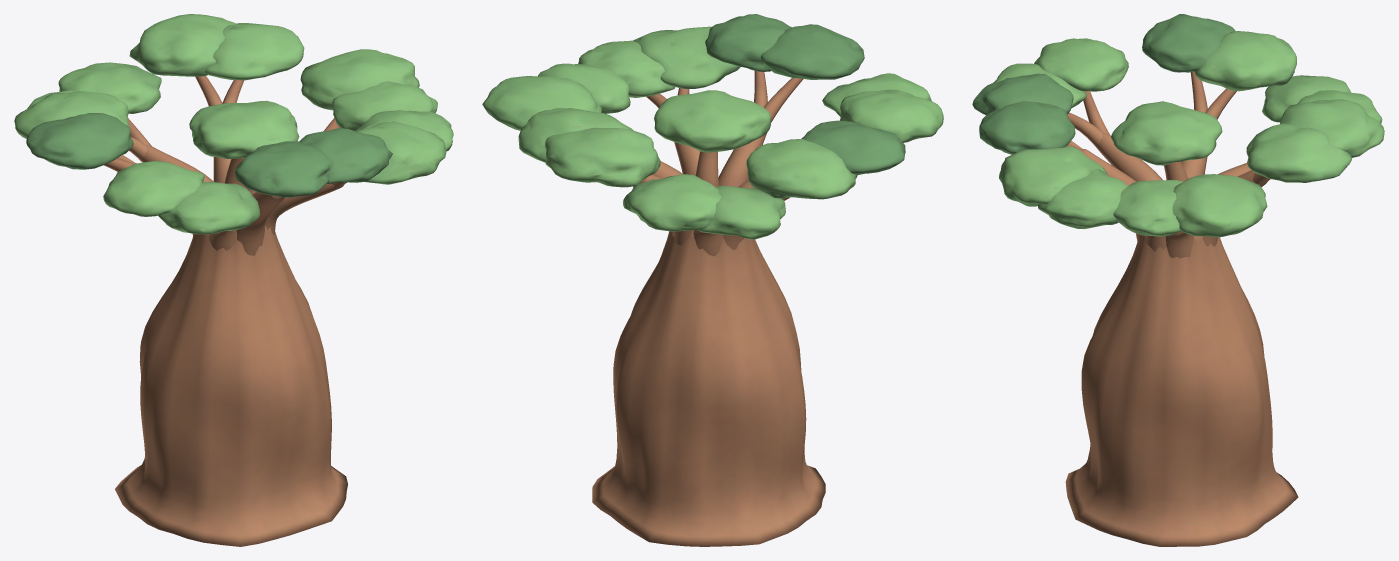
The model's file is grab3d-baobab-tree.glb.
3 renders of one model, left to right at view 1: azimuth 30°, elevation 25°; view 2: azimuth 150°, elevation 25°; view 3: azimuth 270°, elevation 25°, orthographic.
Visible parts, largest first — view 1: baobab-tree_body; view 2: baobab-tree_body; view 3: baobab-tree_body.
Part boxes in pixels (box(x1,y1,x2,y2)): baobab-tree_body: box(14, 14, 453, 546); baobab-tree_body: box(482, 14, 943, 546); baobab-tree_body: box(972, 14, 1384, 546).
Bounding box in the file's own units: 6.19 × 6.14 × 5.69.
1 material, 1 textured.
